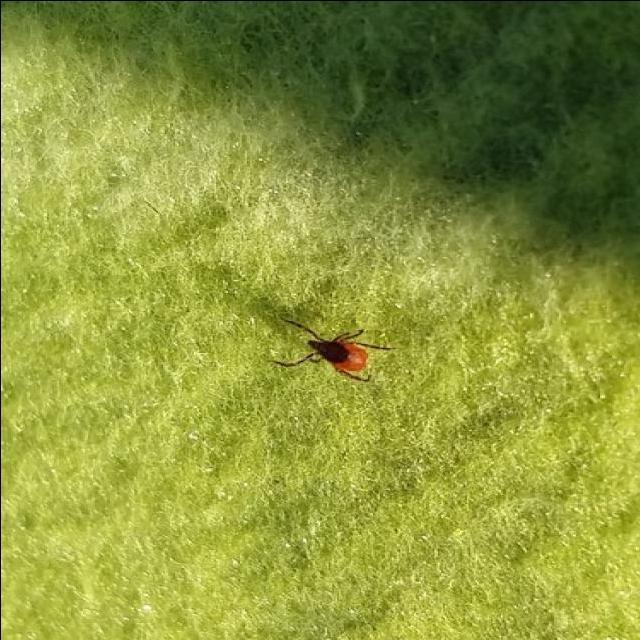Ixodes Ricinus-F: (254, 307, 384, 380)
